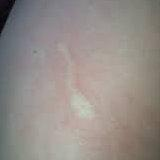Mosquito: (52, 38, 98, 132)
